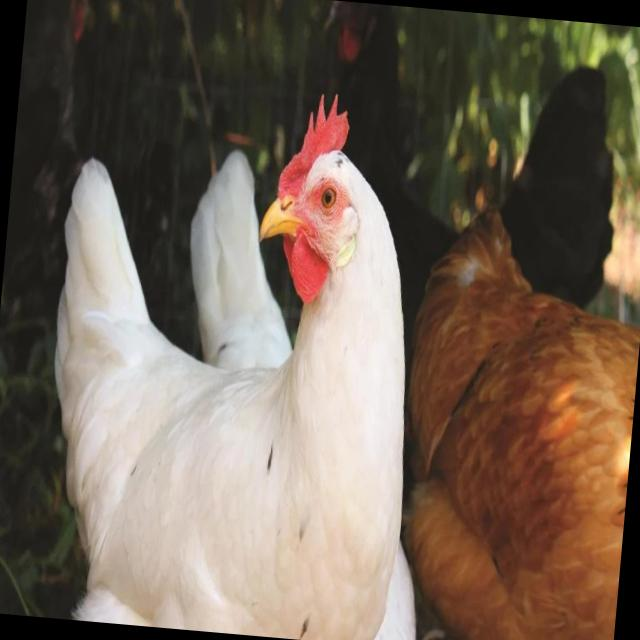Healthy: (29, 69, 462, 640)
